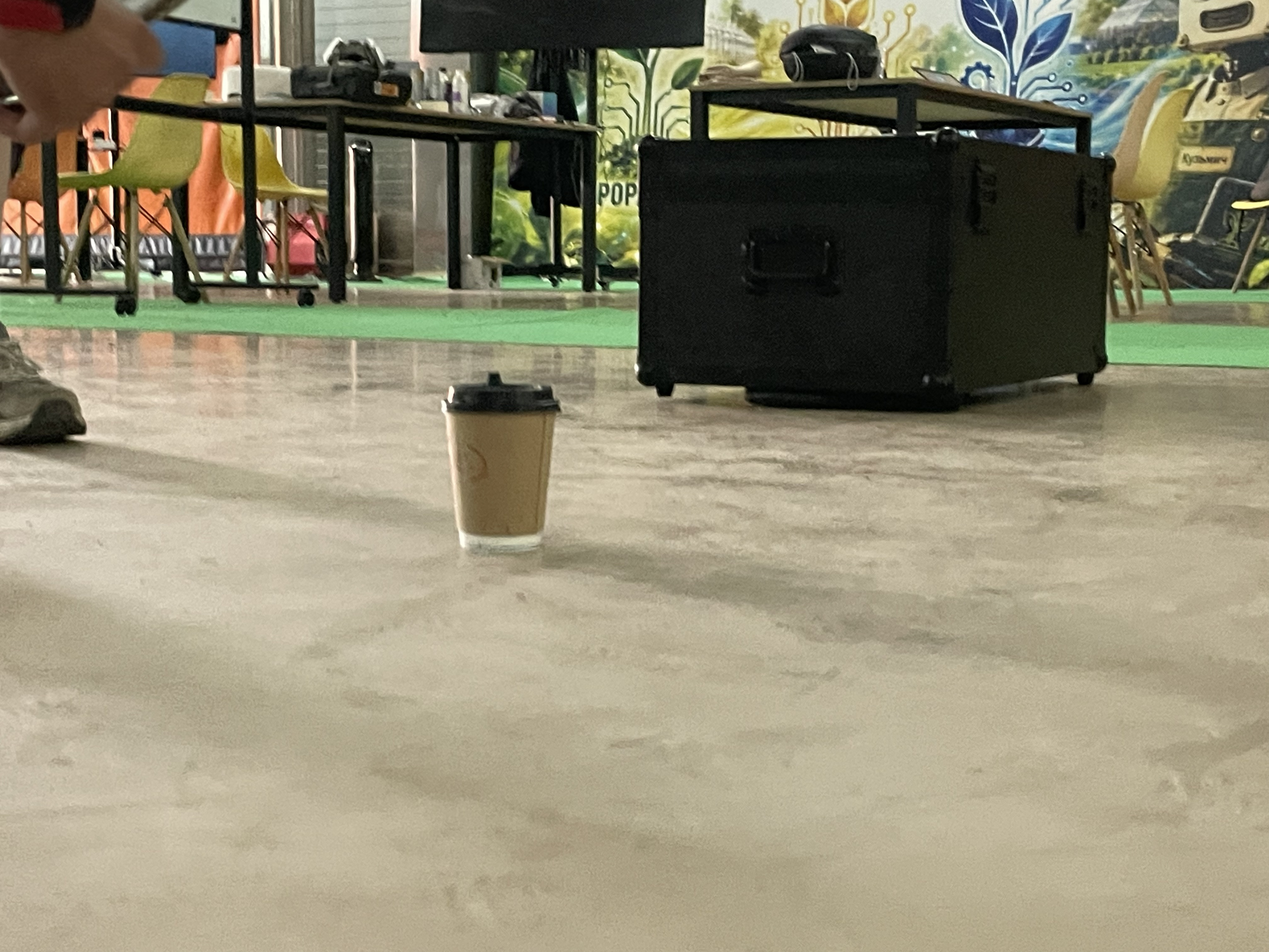cup: (440, 372, 561, 553)
